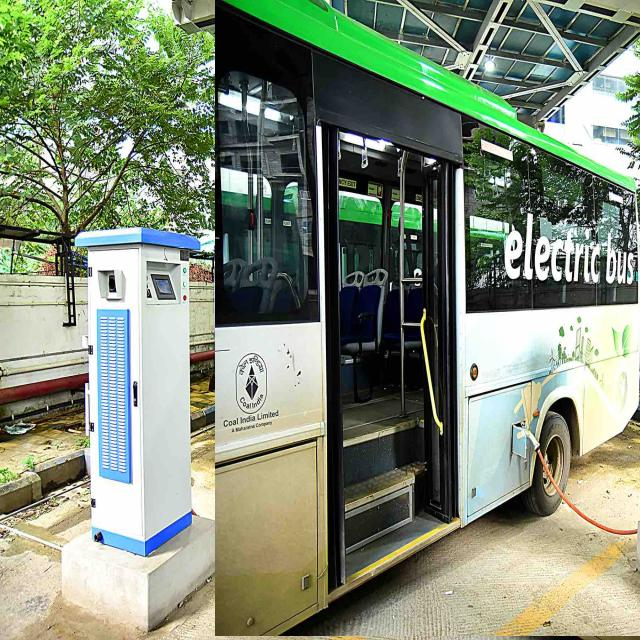bus: (215, 0, 640, 636)
